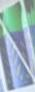cylinder: (1, 0, 35, 92)
